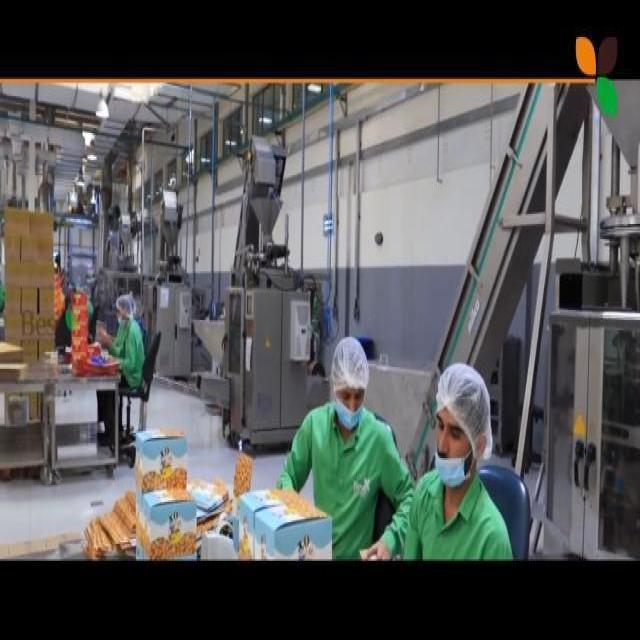bare_hand: (364, 525, 400, 563)
